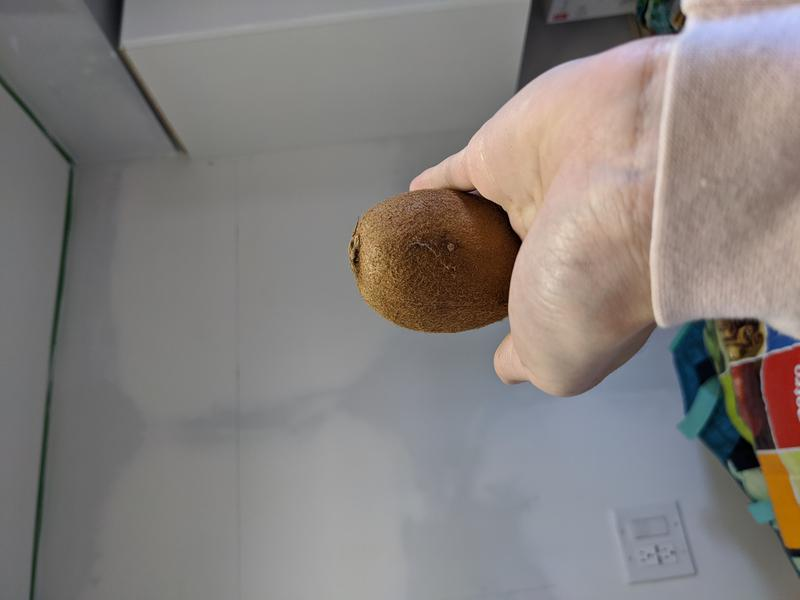kiwi: (350, 188, 515, 334)
